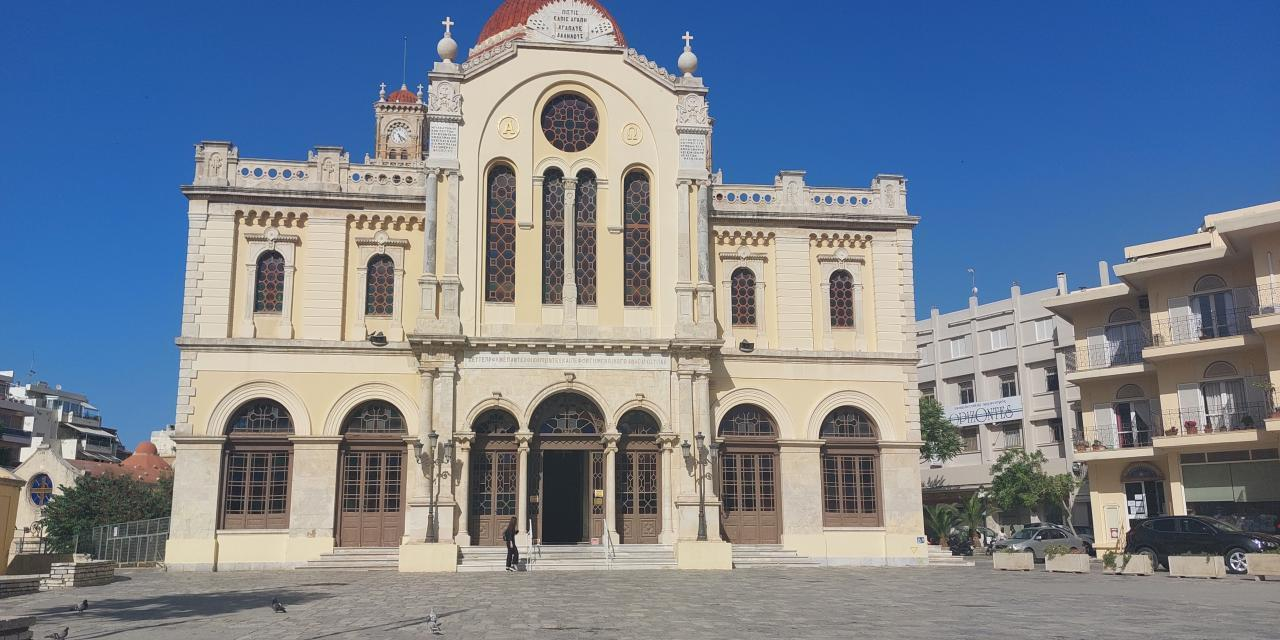Agios Minas: (164, 1, 937, 576)
